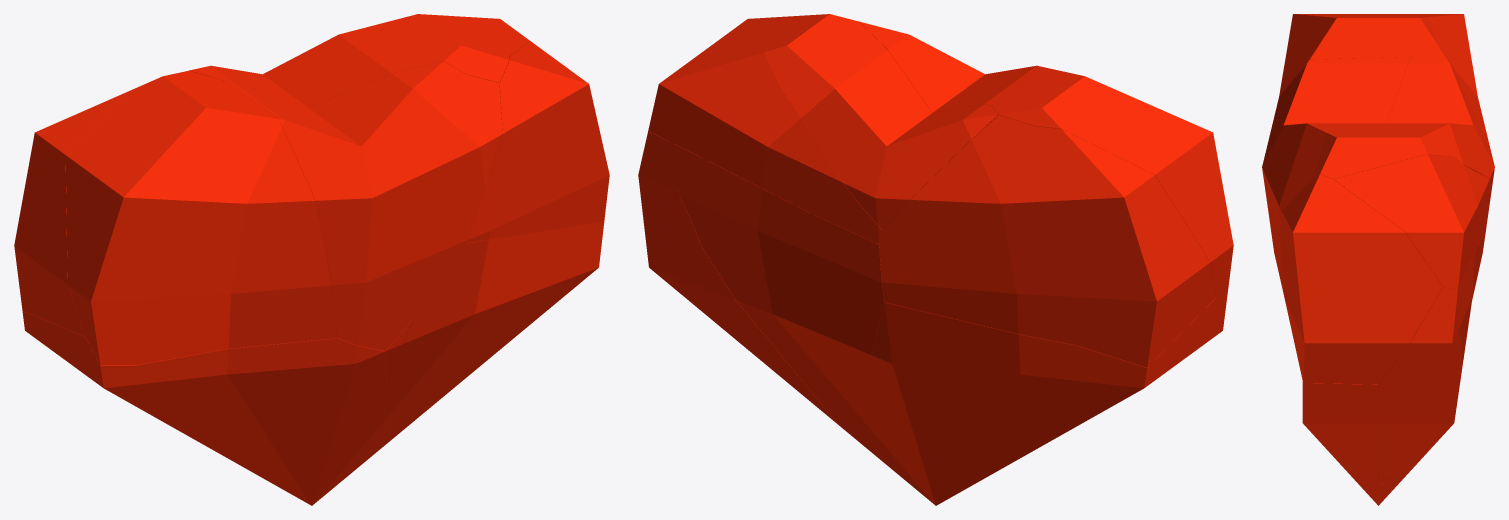
The model's file is destroyedHeart.fbx.
3 renders of one model, left to right at view 1: azimuth 30°, elevation 25°; view 2: azimuth 150°, elevation 25°; view 3: azimuth 270°, elevation 25°, orthographic. The views are drawn at different scales.
Visible parts, largest first — view 1: Куб.008_cell, Куб.008_cell.006, Куб.008_cell.009, Куб.008_cell.003, Куб.008_cell.002, Куб.008_cell.001, Куб.008_cell.005, Куб.008_cell.004, Куб.008_cell.008; view 2: Куб.008_cell.005, Куб.008_cell.009, Куб.008_cell.008, Куб.008_cell.001, Куб.008_cell.004, Куб.008_cell, Куб.008_cell.007, Куб.008_cell.006, Куб.008_cell.002; view 3: Куб.008_cell.002, Куб.008_cell.001, Куб.008_cell.006, Куб.008_cell.004, Куб.008_cell.007, Куб.008_cell, Куб.008_cell.003, Куб.008_cell.005, Куб.008_cell.008, Куб.008_cell.009.
Boxes of the visible parts, x1=… form: Куб.008_cell: x1=65, y1=70, x2=337, y2=365; Куб.008_cell.006: x1=222, y1=61, x2=502, y2=351; Куб.008_cell.009: x1=22, y1=310, x2=386, y2=505; Куб.008_cell.003: x1=383, y1=221, x2=604, y2=446; Куб.008_cell.002: x1=466, y1=41, x2=609, y2=243; Куб.008_cell.001: x1=189, y1=14, x2=509, y2=107; Куб.008_cell.005: x1=14, y1=89, x2=132, y2=336; Куб.008_cell.004: x1=433, y1=15, x2=529, y2=56; Куб.008_cell.008: x1=385, y1=318, x2=413, y2=397; Куб.008_cell.005: x1=879, y1=115, x2=1216, y2=367; Куб.008_cell.009: x1=861, y1=298, x2=1225, y2=505; Куб.008_cell.008: x1=650, y1=132, x2=884, y2=443; Куб.008_cell.001: x1=764, y1=14, x2=998, y2=230; Куб.008_cell.004: x1=648, y1=22, x2=883, y2=244; Куб.008_cell: x1=991, y1=66, x2=1233, y2=308; Куб.008_cell.007: x1=638, y1=130, x2=837, y2=424; Куб.008_cell.006: x1=859, y1=21, x2=1040, y2=112; Куб.008_cell.002: x1=690, y1=16, x2=797, y2=61; Куб.008_cell.002: x1=1281, y1=174, x2=1442, y2=384; Куб.008_cell.001: x1=1310, y1=43, x2=1494, y2=191; Куб.008_cell.006: x1=1262, y1=57, x2=1411, y2=288; Куб.008_cell.004: x1=1333, y1=154, x2=1491, y2=288; Куб.008_cell.007: x1=1378, y1=287, x2=1463, y2=479; Куб.008_cell: x1=1270, y1=14, x2=1435, y2=134; Куб.008_cell.003: x1=1292, y1=332, x2=1378, y2=485; Куб.008_cell.005: x1=1406, y1=14, x2=1489, y2=146; Куб.008_cell.008: x1=1373, y1=216, x2=1487, y2=484; Куб.008_cell.009: x1=1360, y1=484, x2=1397, y2=505.
Bounding box in the file's own units: 549 × 450 × 222.
